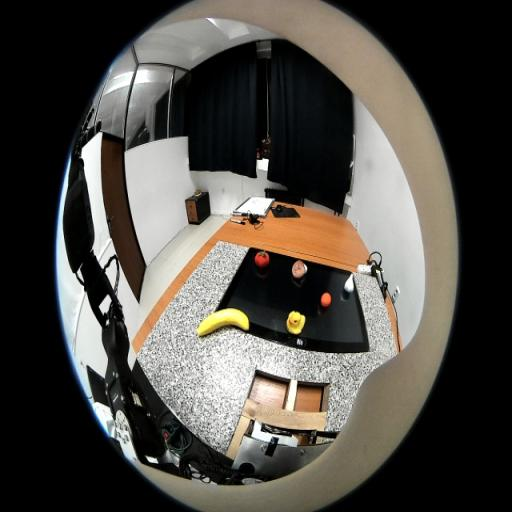Banana: (197, 308, 250, 337)
Duck: (286, 310, 306, 335)
Mushroom: (292, 260, 308, 279)
Onion: (344, 273, 354, 293)
Orange: (320, 292, 332, 308)
Tomato: (254, 250, 270, 268)
